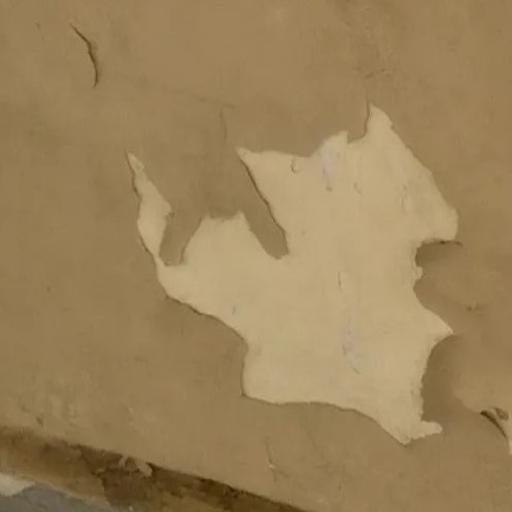peeling: (111, 89, 512, 459), (53, 14, 135, 104)
